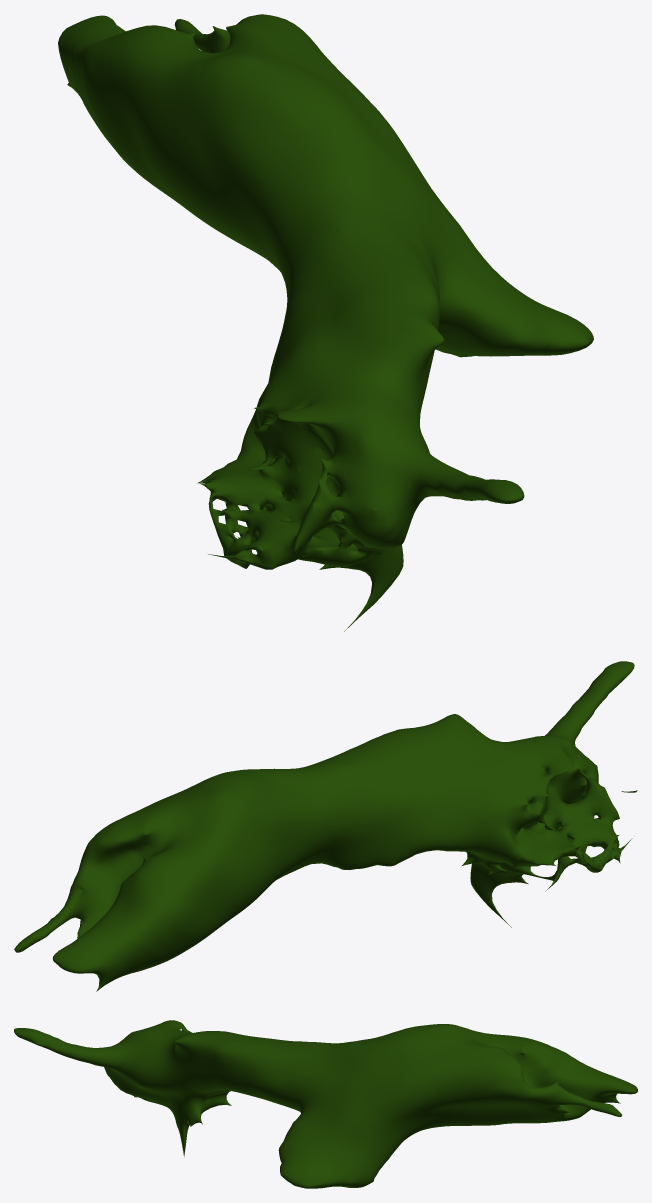
The model's file is SVC.obj.
3 views of the same model, one above another, from view 1: azimuth 30°, elevation 25°; view 2: azimuth 150°, elevation 25°; view 3: azimuth 270°, elevation 25° (orthographic). The views are drawn at different scales.
Visible parts, largest first — view 1: grp1; view 2: grp1; view 3: grp1.
Boxes of the visible parts, bbox=[...] form: grp1: bbox=[58, 14, 593, 631]; grp1: bbox=[14, 661, 637, 991]; grp1: bbox=[14, 1020, 637, 1188].
Size of the model in its own units: 59.89 by 37.22 by 122.
